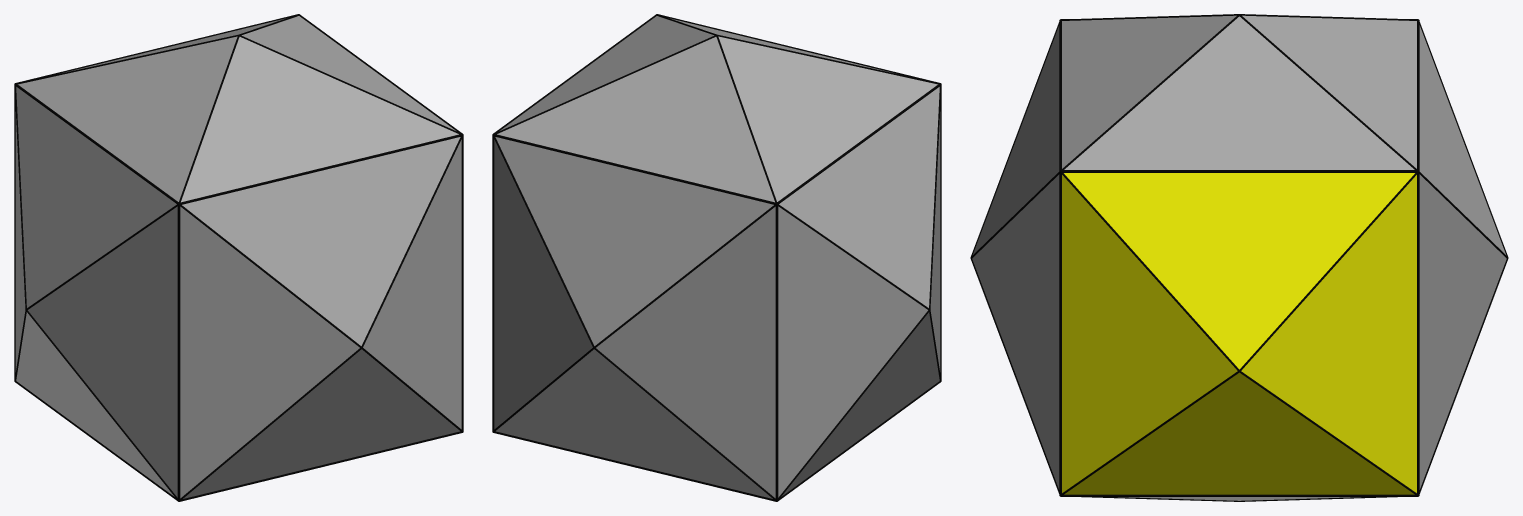
Rendered from TetrakisHexahedron_6.glb.
3 renders of one model, left to right at view 1: azimuth 30°, elevation 25°; view 2: azimuth 150°, elevation 25°; view 3: azimuth 270°, elevation 25°, orthographic. The views are drawn at different scales.
Size of the model in its own units: 3.19 by 3.19 by 3.19.
